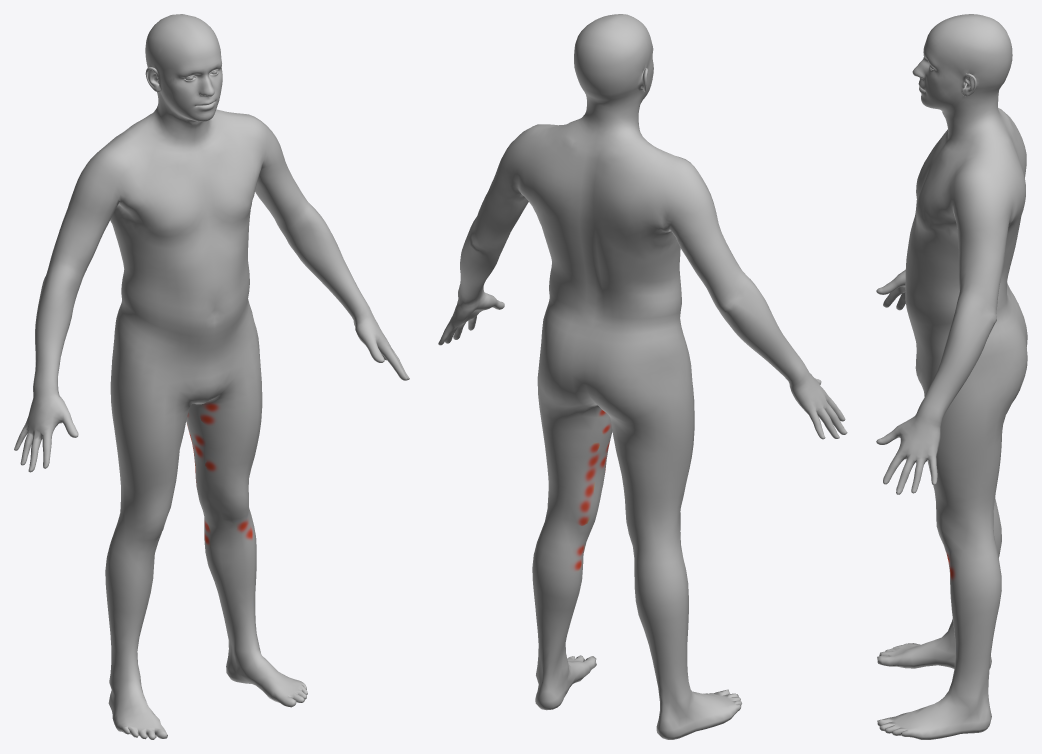
Rendered from 1135018-layingdown-red.gltf.
3 renders of one model, left to right at view 1: azimuth 30°, elevation 25°; view 2: azimuth 150°, elevation 25°; view 3: azimuth 270°, elevation 25°, orthographic. The views are drawn at different scales.
Visible parts, largest first — view 1: Male 68in 160lbs-A-pose; view 2: Male 68in 160lbs-A-pose; view 3: Male 68in 160lbs-A-pose.
Boxes of the visible parts, x1,y1,x2,y2 form: Male 68in 160lbs-A-pose: [14, 14, 409, 739]; Male 68in 160lbs-A-pose: [438, 14, 847, 739]; Male 68in 160lbs-A-pose: [876, 14, 1027, 739].
Size of the model in its own units: 3.05 by 5.17 by 1.04.
1 material, 1 textured.
